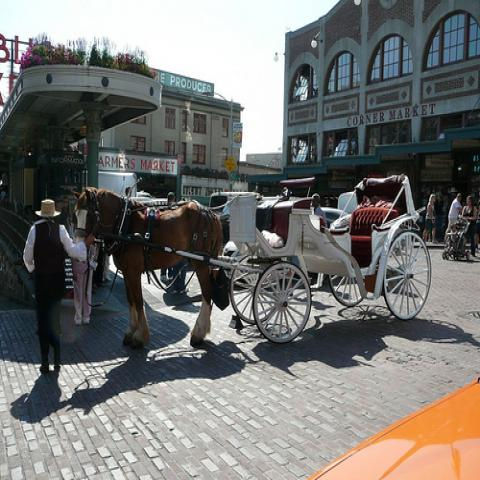car: (314, 367, 479, 475), (321, 207, 343, 229)
truck: (98, 172, 152, 197)
